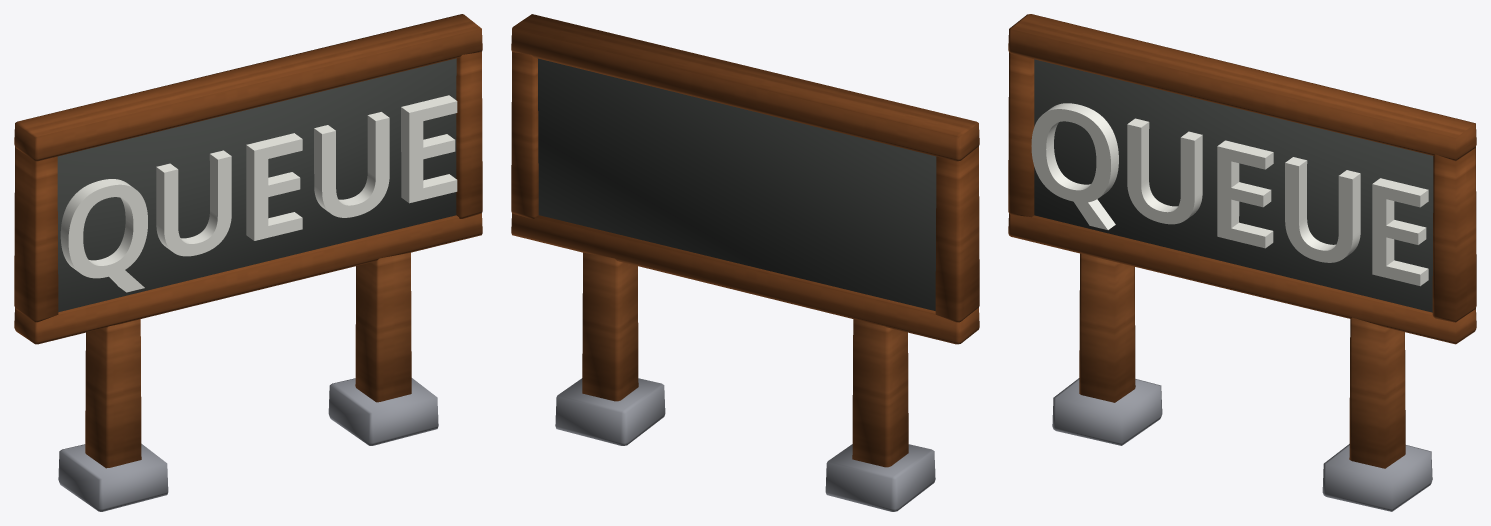
File: 53_sign_queue.glb
3 views of the same model, side by side, from view 1: azimuth 30°, elevation 25°; view 2: azimuth 150°, elevation 25°; view 3: azimuth 330°, elevation 25° (orthographic).
Parts seen in each view (by area): view 1: SlateBoard, SignText, FrameTop, FrameBottom, WoodPost_1, WoodPost_-1, FrameSide_-1, StoneBase_-1, StoneBase_1, FrameSide_1; view 2: SlateBoard, FrameTop, FrameBottom, WoodPost_1, WoodPost_-1, FrameSide_-1, StoneBase_-1, StoneBase_1, FrameSide_1; view 3: SlateBoard, SignText, FrameTop, FrameBottom, WoodPost_1, WoodPost_-1, FrameSide_1, StoneBase_-1, StoneBase_1, FrameSide_-1.
Part boxes in pixels (box(x1,y1,x2,y2)): SlateBoard: box(57, 58, 456, 312); SignText: box(60, 95, 457, 292); FrameTop: box(14, 14, 482, 161); FrameBottom: box(14, 213, 482, 344); WoodPost_1: box(355, 252, 411, 402); WoodPost_-1: box(85, 319, 141, 468); FrameSide_-1: box(14, 147, 58, 322); StoneBase_-1: box(58, 443, 168, 511); StoneBase_1: box(328, 378, 438, 445); FrameSide_1: box(456, 52, 482, 218); SlateBoard: box(538, 58, 936, 310); FrameTop: box(511, 14, 979, 161); FrameBottom: box(511, 213, 979, 344); WoodPost_1: box(582, 252, 638, 401); WoodPost_-1: box(852, 319, 908, 467); FrameSide_-1: box(935, 146, 979, 322); StoneBase_-1: box(825, 444, 935, 511); StoneBase_1: box(555, 378, 665, 445); FrameSide_1: box(511, 52, 538, 218); SlateBoard: box(1034, 59, 1433, 312); SignText: box(1031, 103, 1428, 286); FrameTop: box(1008, 14, 1476, 161); FrameBottom: box(1008, 214, 1476, 344); WoodPost_1: box(1349, 317, 1405, 468); WoodPost_-1: box(1079, 253, 1135, 402); FrameSide_1: box(1432, 147, 1476, 322); StoneBase_-1: box(1052, 378, 1162, 445); StoneBase_1: box(1322, 444, 1432, 511); FrameSide_-1: box(1008, 52, 1034, 217).
Bounding box in the file's own units: 1.3 × 1.06 × 0.21.
Materials: 5 (2 with a texture image).
